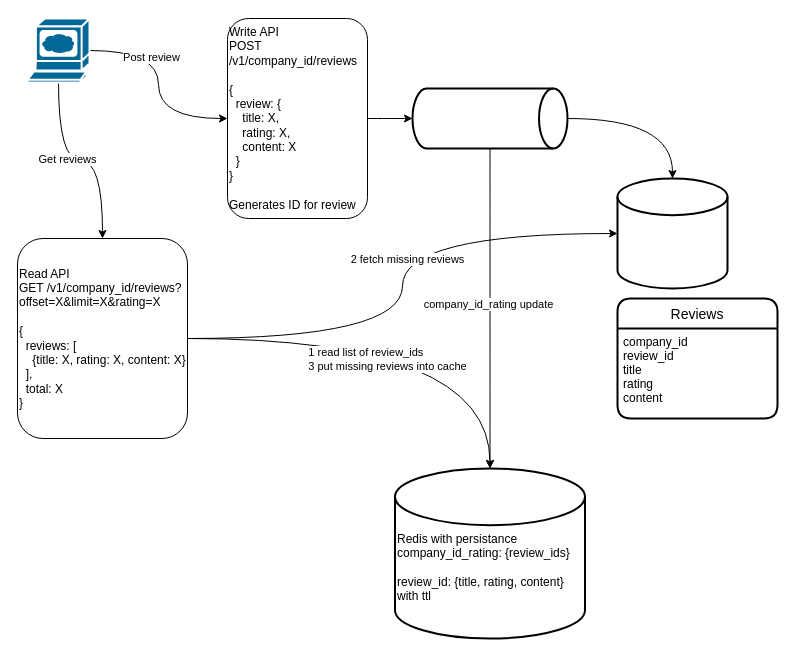
Some shapes in this 796 by 656 pixel diagram are drawn without their labels. Here are the shapes that lost their labels. From the top down, the centre of each, then its label:
At pixel 489 118: "Kafka partitioned by company_id".
At pixel 672 233: "Cassandra".
